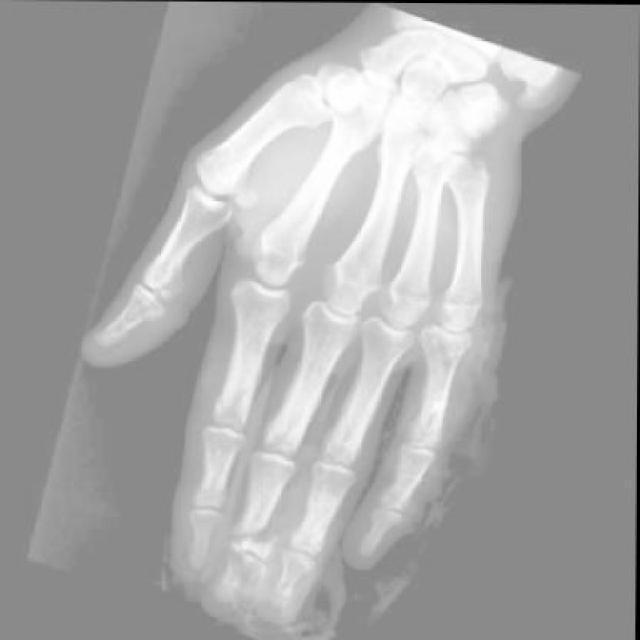Fracture: (205, 531, 272, 618)
